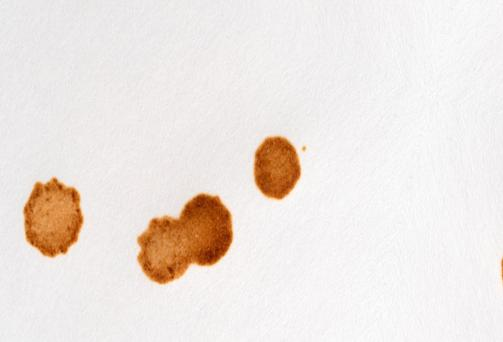stain: (126, 192, 235, 286), (16, 177, 91, 261), (247, 132, 309, 213)
